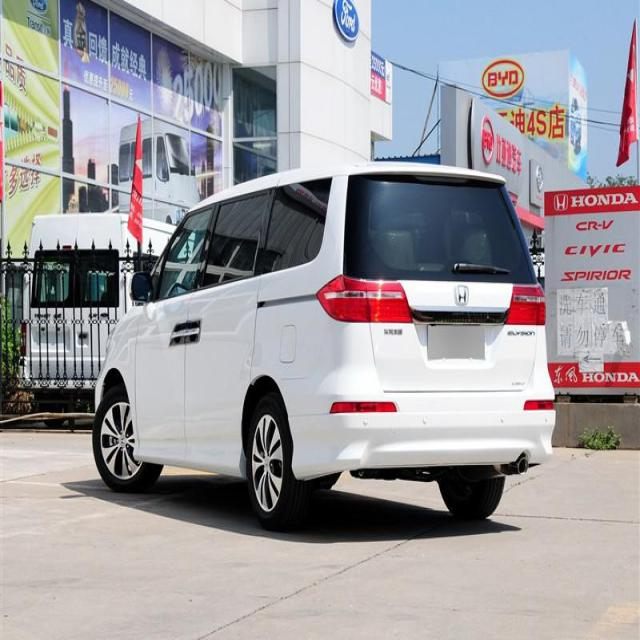back_glass: (345, 172, 534, 284)
back_left_side_light: (314, 272, 415, 327)
back_right_side_light: (505, 286, 546, 330)
door: (182, 183, 280, 456)
front_left_side_door: (132, 196, 217, 477)
front_left_side_mirror: (127, 271, 155, 304)
rear_bumper: (286, 395, 563, 481)
wheel: (93, 392, 159, 488), (246, 398, 292, 524)
